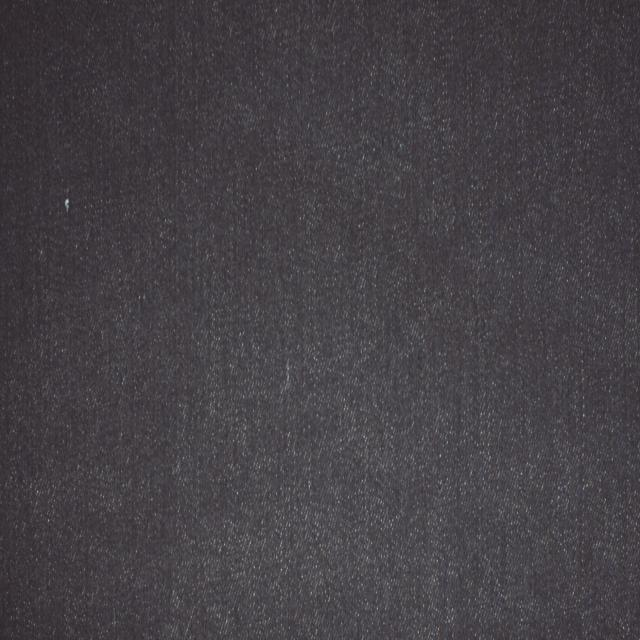Knot: (63, 198, 68, 212)
